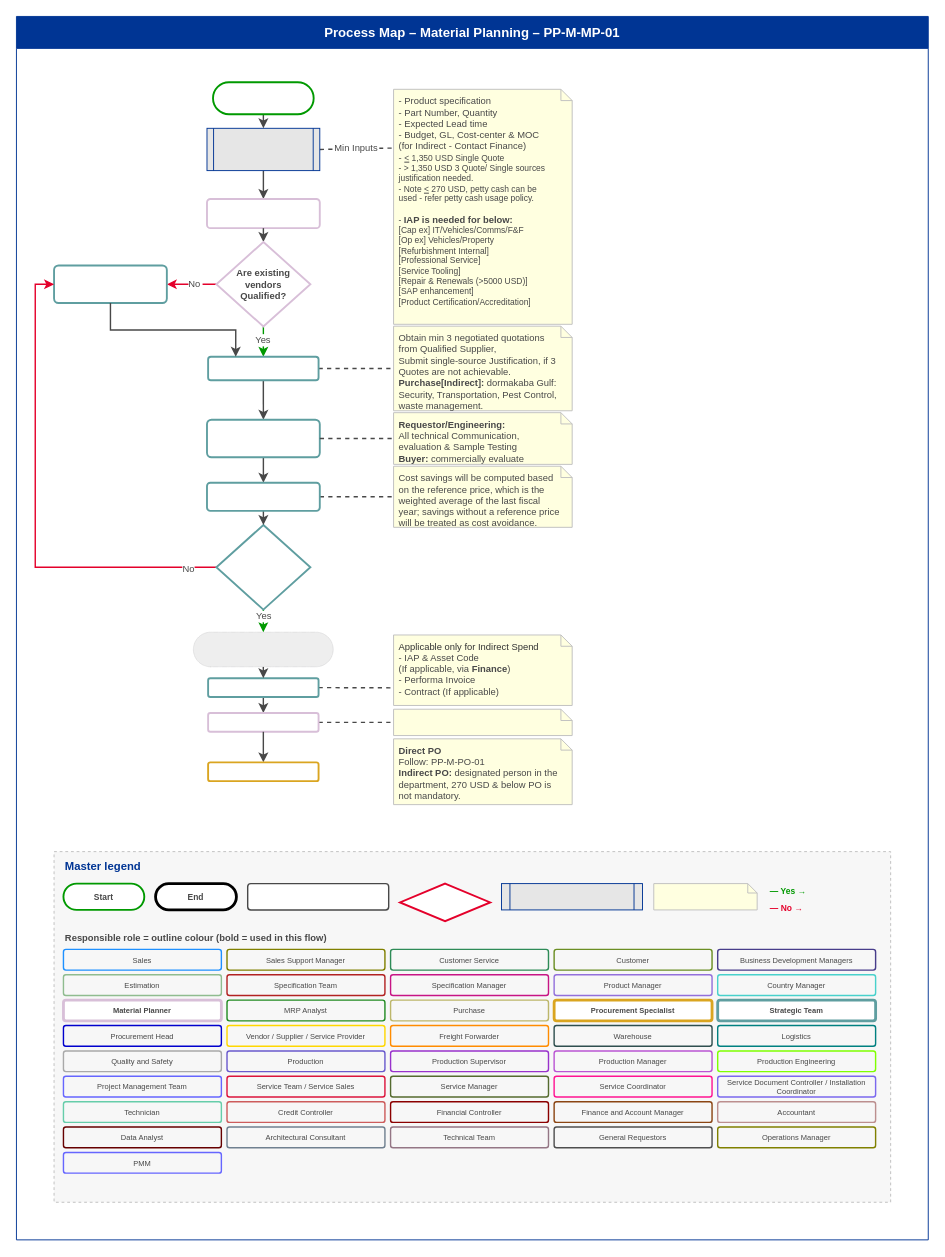
The diagram is 945 pixels wide and 1257 high, and some of its shapes have lost their labels. Each missing label, with the centre of its shape:
Activity (outline = role): [318,896]
Commercial Agreement: [263,687]
Create/Review Purchase Requisition [PP-RF-IE-01]:: [263,149]
Decision: [445,902]
Evaluate Product Specification: [263,213]
Evaluation: [263,438]
Get Quotations: [263,368]
Linked process (Ref ID): [571,896]
Market analysis & New vendor selection checklist: PP-CL-PQ-01: [110,284]
Negotiate & Record Savings: [263,496]
Note / checklist: [705,896]
PO Creation: [263,771]
PR review / revision: [263,722]
Pre-Approval on Indirect spend above 10,000 CHF: [482,722]
Request submitted: [263,98]
VENDOR ASSIGNMENT Ref S#: PP-M-VA-01: [263,649]
Vendor Qualified ?: [263,567]
